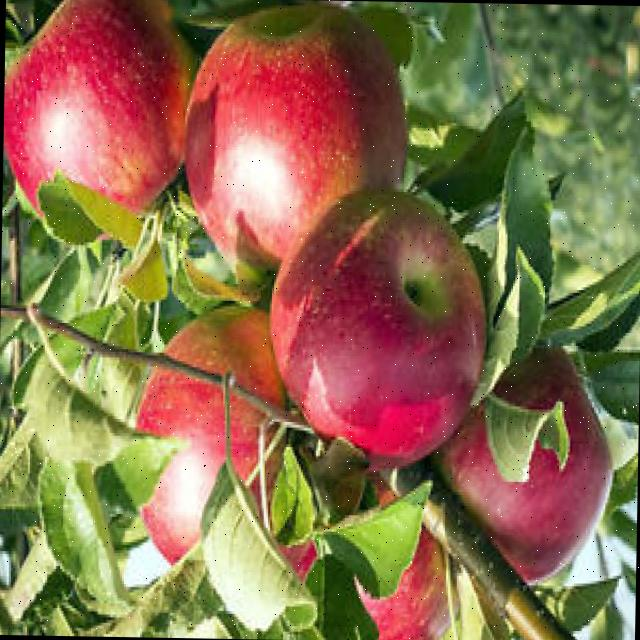Apel: (182, 3, 411, 286), (266, 189, 490, 475), (3, 0, 199, 246), (433, 346, 616, 590), (132, 304, 290, 570), (353, 473, 460, 640)
